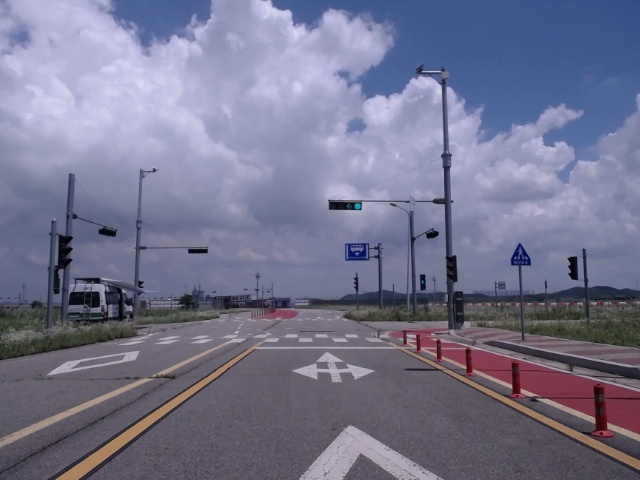all_green_4: (329, 201, 363, 210)
